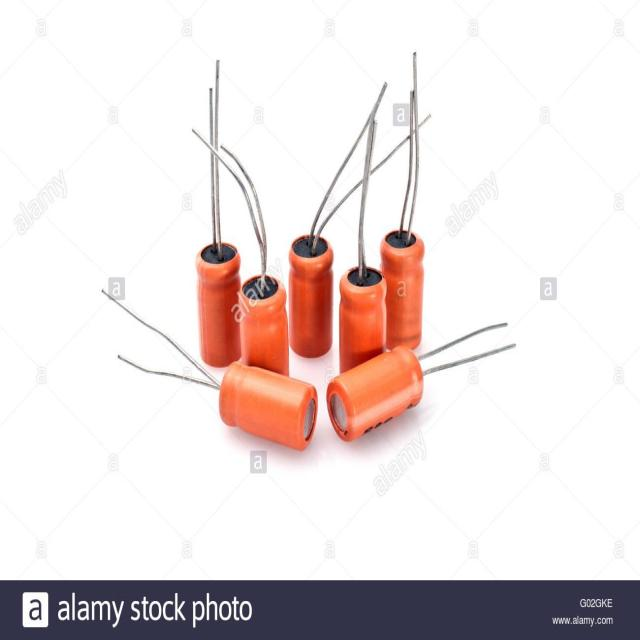Capacitor: (101, 290, 318, 450), (289, 84, 386, 357), (193, 130, 289, 375), (326, 322, 516, 442), (380, 53, 425, 350), (339, 116, 386, 373)
